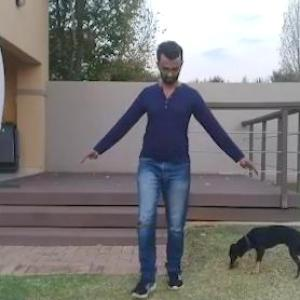land: (84, 42, 243, 294)
